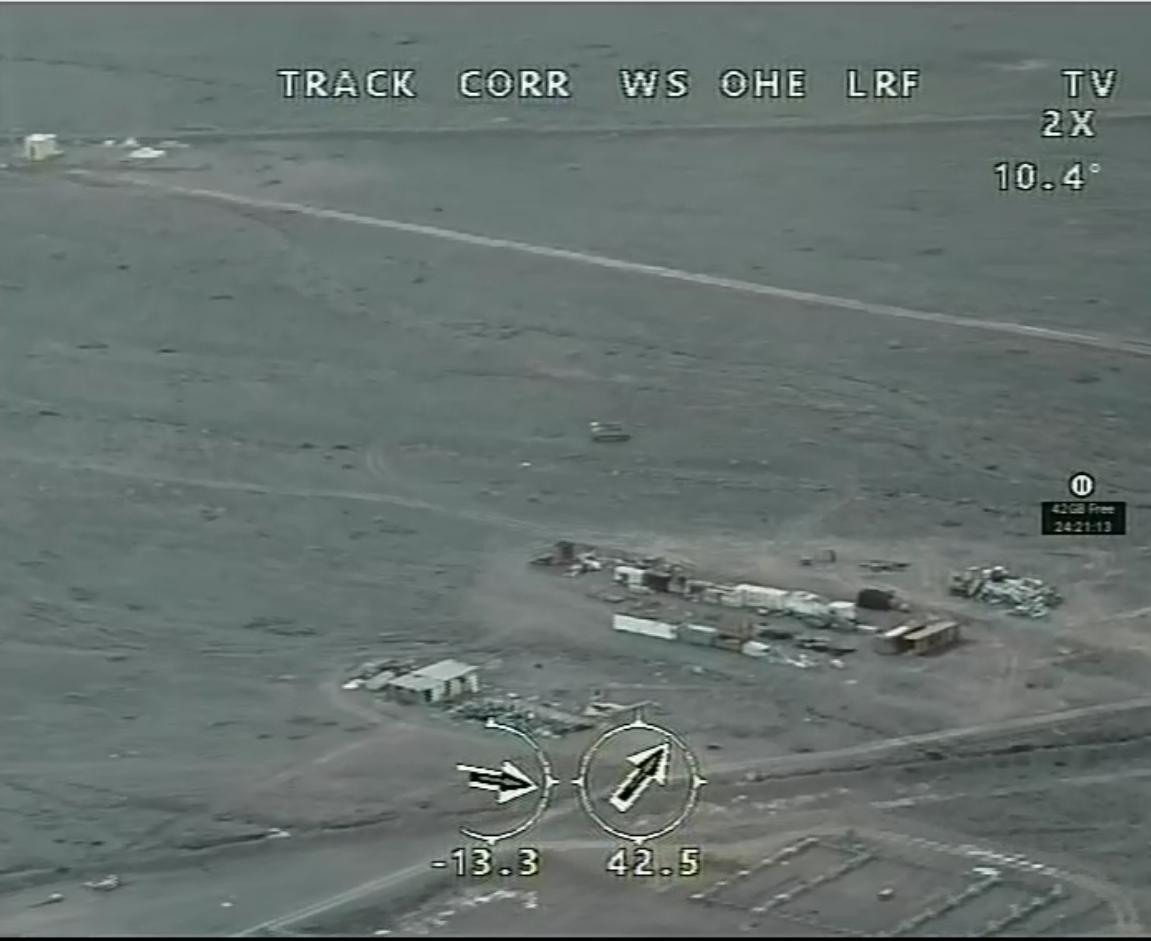armored_car: (584, 414, 634, 448)
